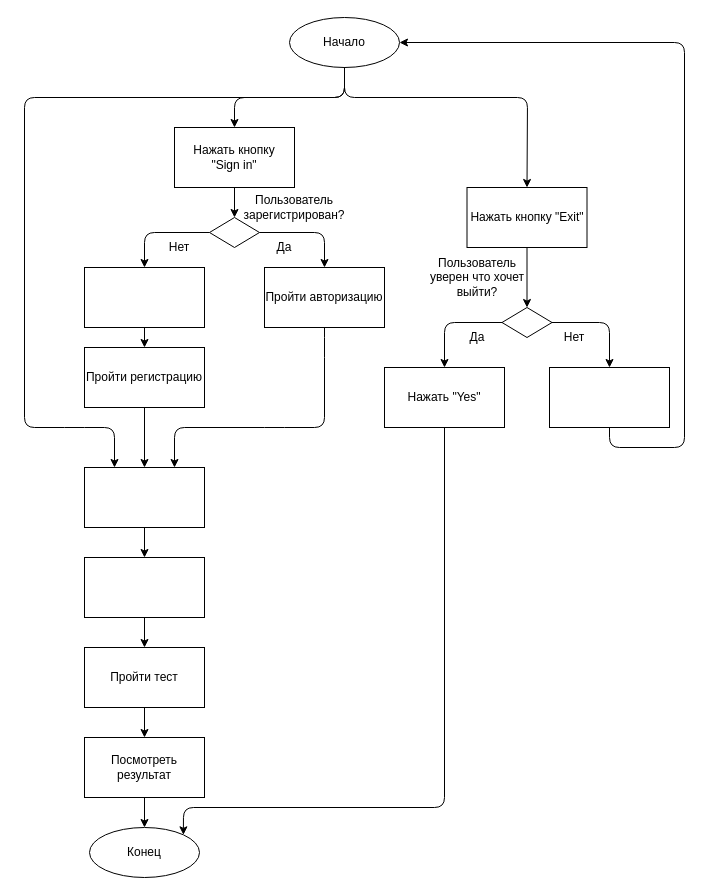
Some shapes in this 710 by 895 pixel diagram are drawn without their labels. The centre of each missing label's shape, as x and y in pixels:
Нажать "No": point (609, 397)
Нажать кнопку "Go to the test": point (144, 497)
Нажать кнопку "Sign up": point (144, 297)
Нажать кнопку "Start": point (144, 587)
